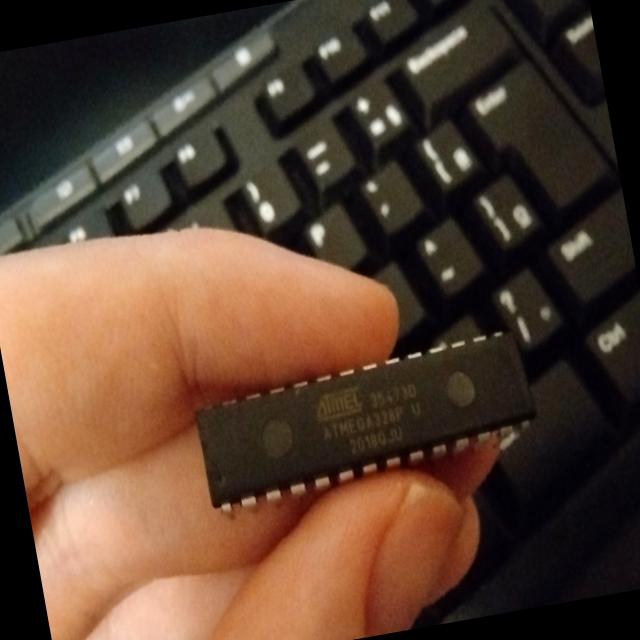atmega: (186, 322, 546, 516)
